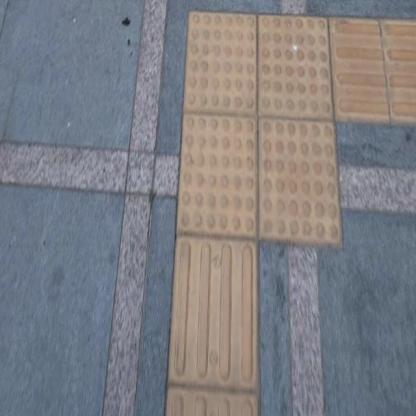podotacti: (147, 0, 373, 280), (164, 242, 266, 415), (342, 10, 416, 127)
